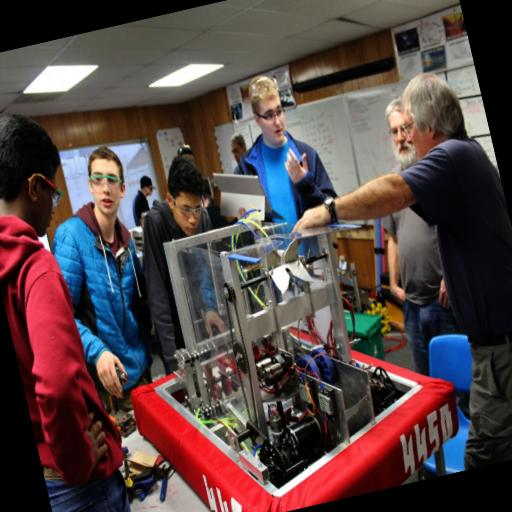robot: (93, 187, 472, 512)
